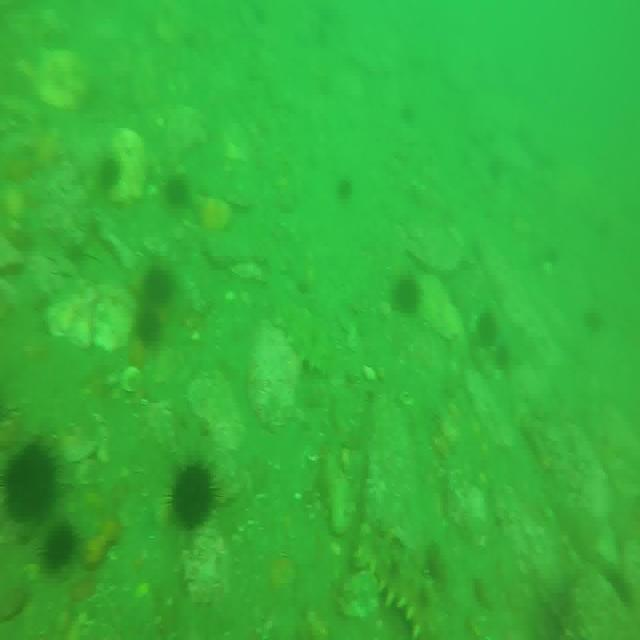echinus: (5, 440, 60, 527), (169, 466, 219, 527), (390, 267, 426, 323), (143, 257, 178, 312), (41, 520, 78, 572), (136, 300, 167, 352), (167, 171, 193, 211), (98, 153, 123, 192), (477, 310, 499, 350), (337, 177, 355, 205)
holothurian: (361, 528, 451, 640)
scallop: (121, 368, 144, 396)
